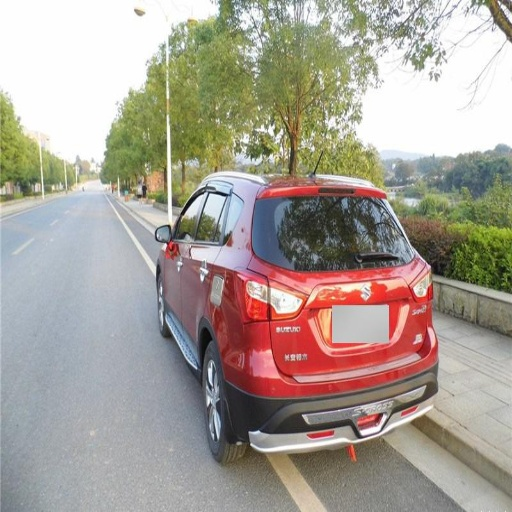back_bumper: (228, 323, 437, 454)
back_glass: (256, 191, 408, 267)
back_left_door: (184, 242, 207, 320)
trunk: (204, 253, 426, 386)
